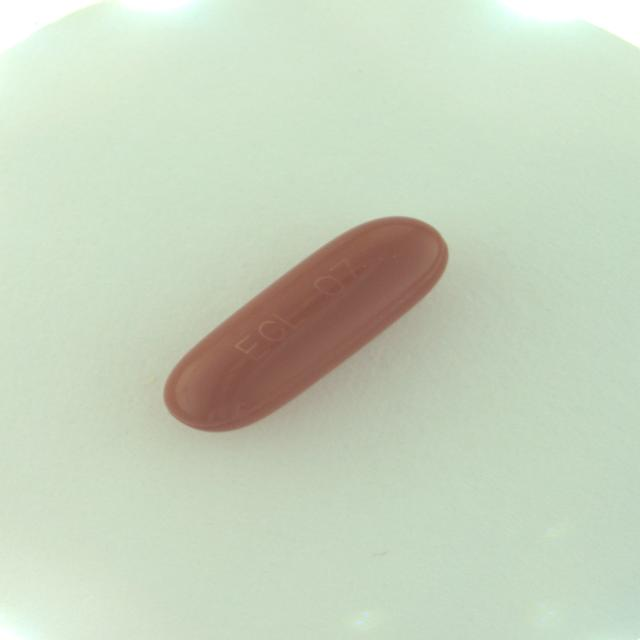Oval: (155, 210, 457, 437)
